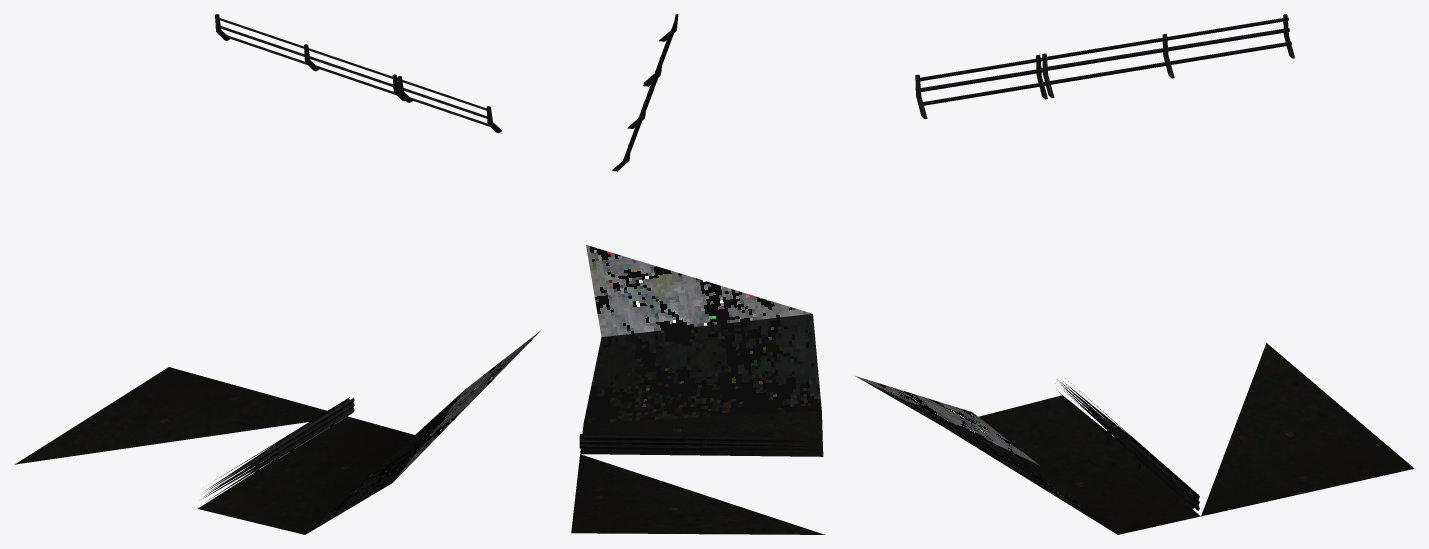
Rendered from cell_12_-11.gltf.
3 renders of one model, left to right at view 1: azimuth 30°, elevation 25°; view 2: azimuth 150°, elevation 25°; view 3: azimuth 270°, elevation 25°, orthographic. The views are drawn at different scales.
Visible parts, largest first — view 1: cell_12_-11; view 2: cell_12_-11; view 3: cell_12_-11.
Boxes of the visible parts, x1,y1,x2,y2 form: cell_12_-11: (15, 14, 541, 534); cell_12_-11: (571, 14, 824, 534); cell_12_-11: (855, 14, 1414, 534).
Size of the model in its own units: 15.72 by 15.01 by 16.91.
5 materials, 5 textured.
